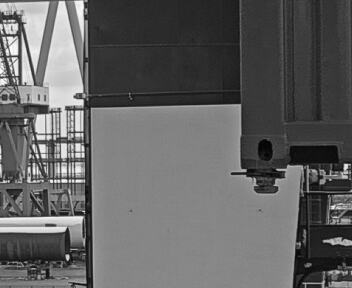twist_lock_1: (207, 130, 231, 148)
